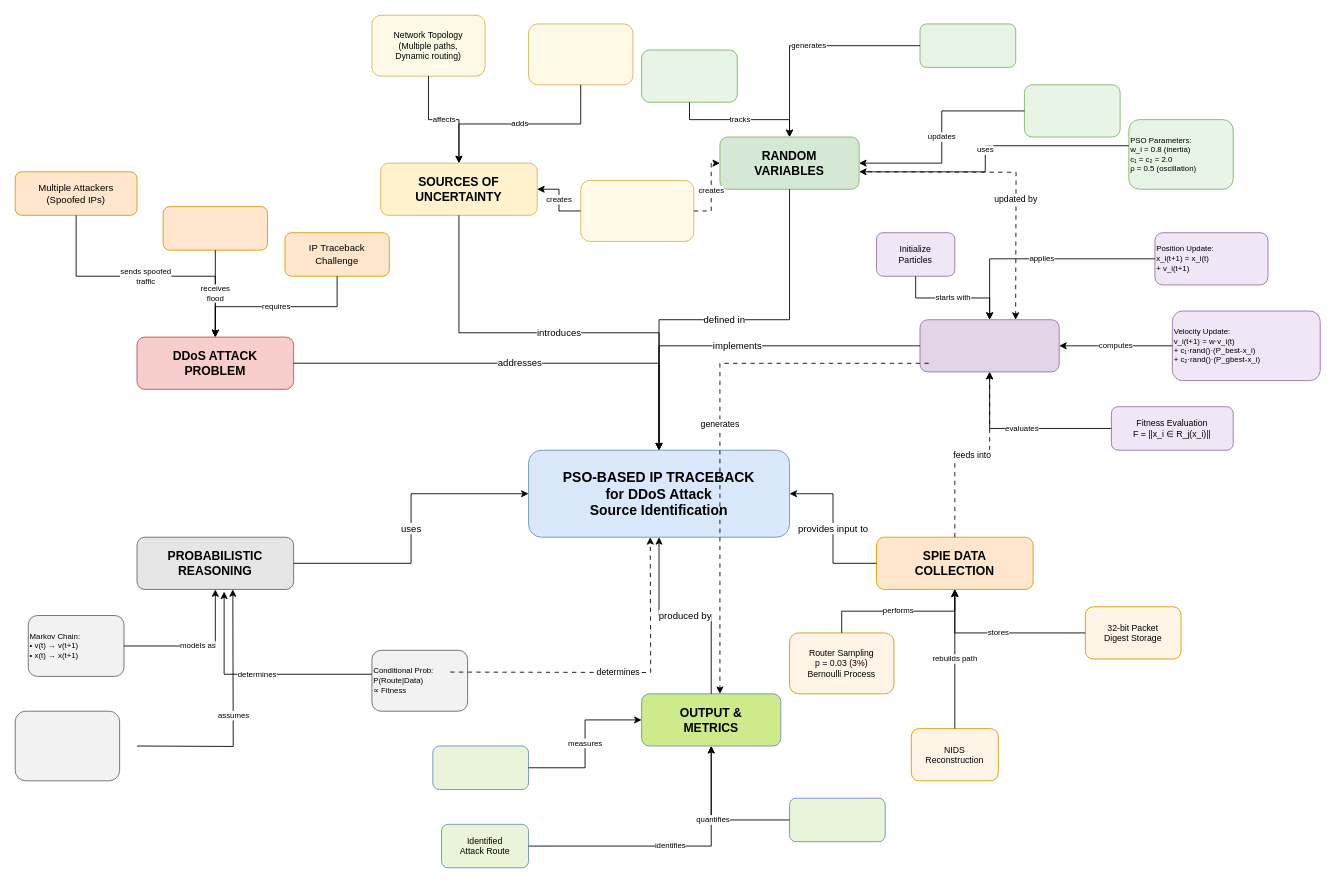
This 1335x883 diagram has some shape labels left out. The box of each missing label's shape, as (x1, y1, x2, y2) in pixels:
Algorithm Randomness (rand() function): (528, 23, 633, 85)
Coverage: 98.33% (24 nodes): (432, 745, 529, 790)
False Rate: 1.67% (24 nodes): (789, 797, 885, 842)
Independence: • Packet marks • rand() calls • Attack sources: (14, 710, 120, 781)
Packet Marking (Only 3% marked) Bernoulli(p=0.03): (580, 180, 694, 241)
PSO MODEL: (919, 319, 1059, 372)
rand() ~ U[0,1] Uniform Random: (919, 23, 1016, 67)
v_i(t) Particle Velocity [-v_max, v_max]: (1024, 84, 1120, 137)
Victim (Target Server): (162, 206, 268, 250)
x_i(t) ∈ R^D Particle Position: (641, 49, 737, 102)
